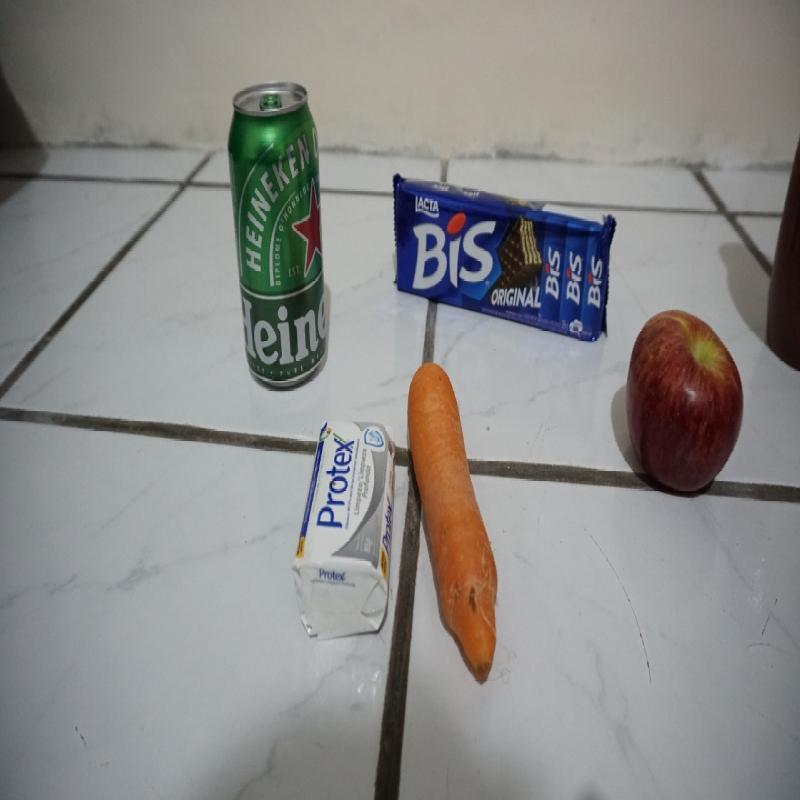Apple: (629, 308, 745, 503)
Beer can: (226, 84, 328, 378)
Carrot: (407, 363, 500, 685)
Soap: (293, 412, 394, 631)
